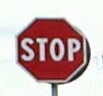stop: (16, 15, 87, 83)
